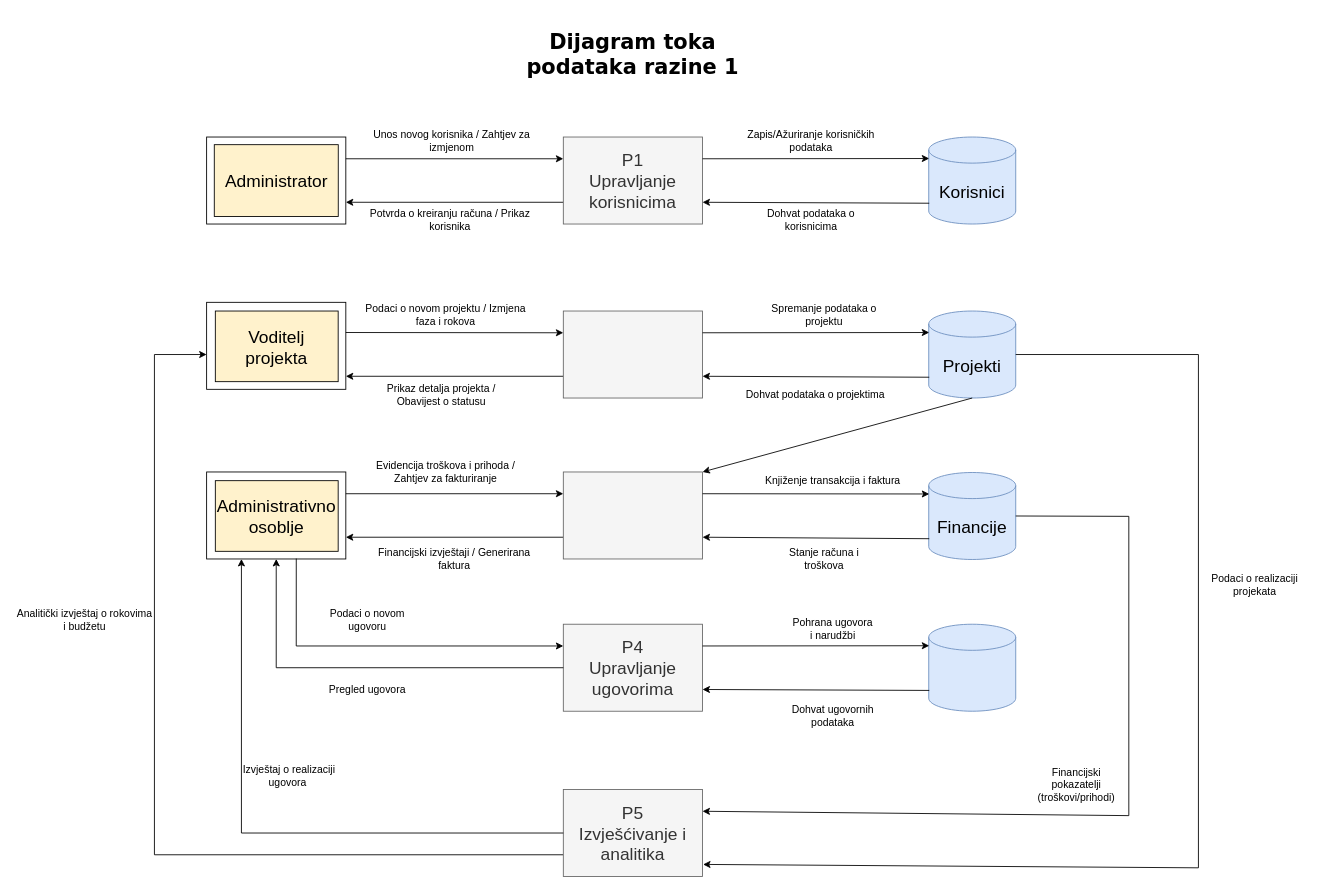
Image size: 1326x892. Some labels were removed from this diagram. The shapes that lost their labels are listed below. From the top down, each one's box as (x1, y1, x2, y2) in pixels, then its label:
(562, 310, 703, 398): P2 Upravljanje projektima
(702, 415, 824, 450): Podaci o budžetu projekta
(562, 471, 703, 559): P3 Upravljanje financijama
(928, 623, 1016, 711): Ugovori
